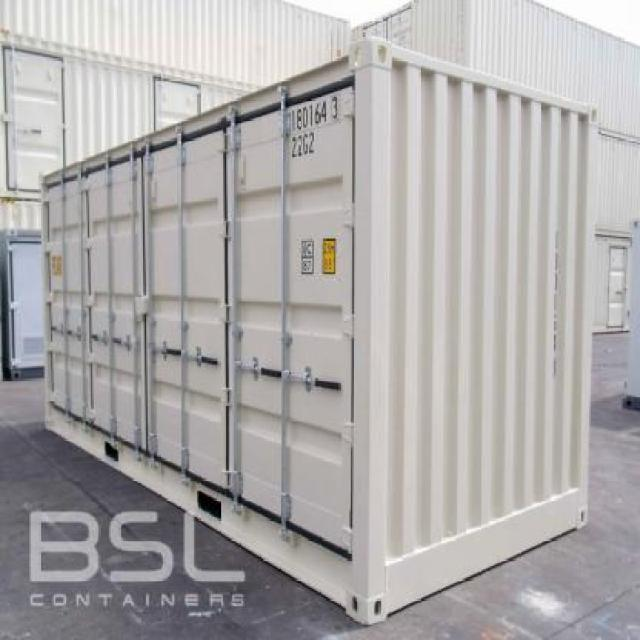ISO: (285, 134, 321, 152)
container_number: (284, 95, 349, 129)
